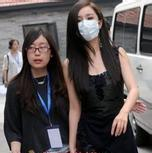NONE: (28, 41, 53, 69), (13, 42, 21, 51)
OK: (74, 15, 102, 42)
